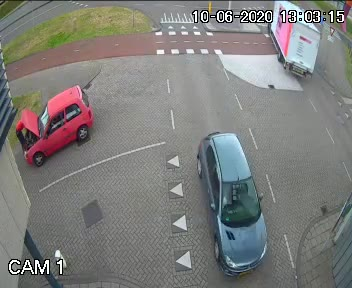car: (190, 130, 278, 274), (10, 87, 99, 167), (255, 7, 321, 75)
